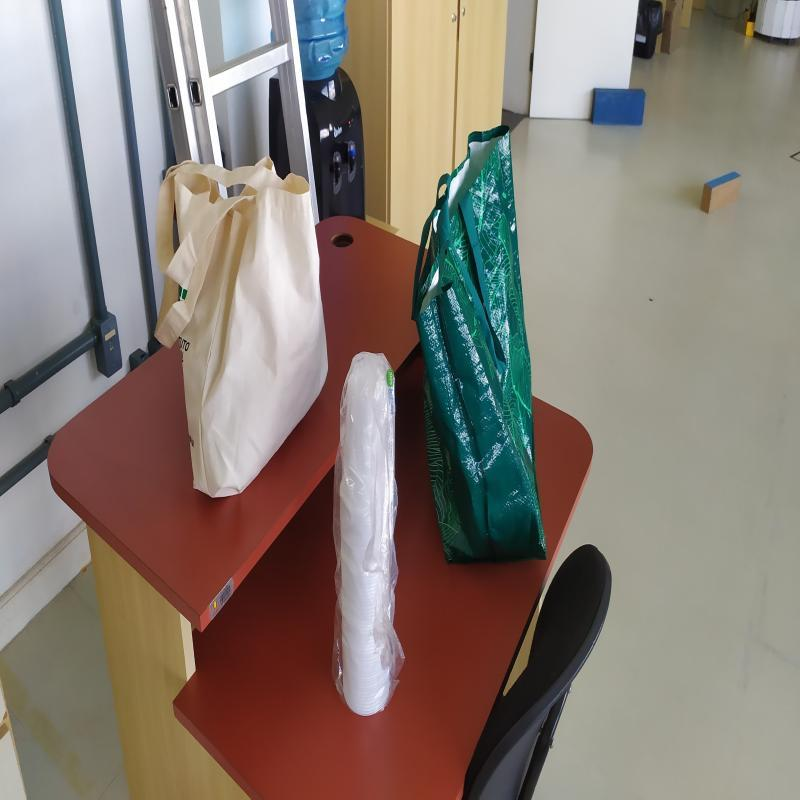Bag: (155, 158, 330, 504), (414, 128, 546, 574)
